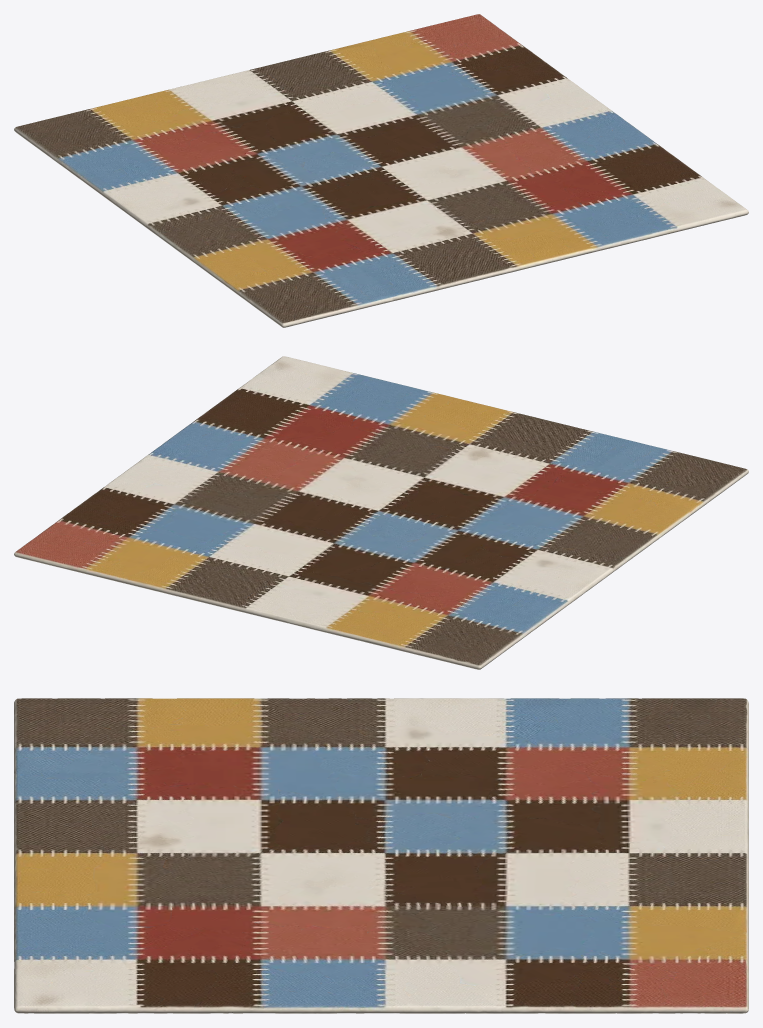
File: patchwork-rug.glb
The picture shows the model from 3 angles, top to bottom: view 1: azimuth 30°, elevation 25°; view 2: azimuth 150°, elevation 25°; view 3: azimuth 270°, elevation 25°; orthographic projection. The views are drawn at different scales.
Visible parts, largest first — view 1: mesh_node; view 2: mesh_node; view 3: mesh_node.
Part boxes in pixels (x1,y1,x2,y2): mesh_node: [14, 14, 748, 327]; mesh_node: [14, 356, 748, 669]; mesh_node: [14, 698, 748, 1013].
Bounding box in the file's own units: 1.9 × 0.0219 × 1.9.
1 material, 1 textured.
